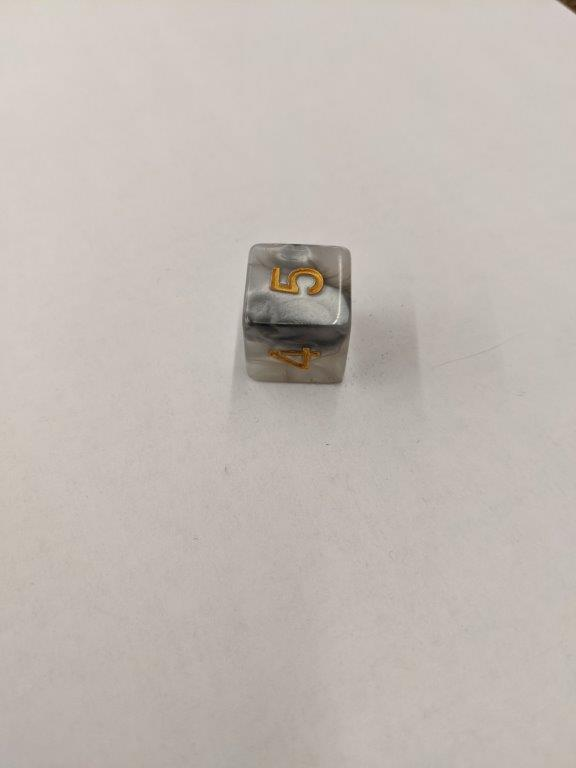d6-5: (240, 239, 355, 390)
